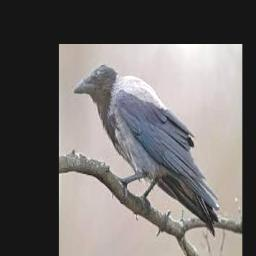Crow: (73, 63, 219, 236)
